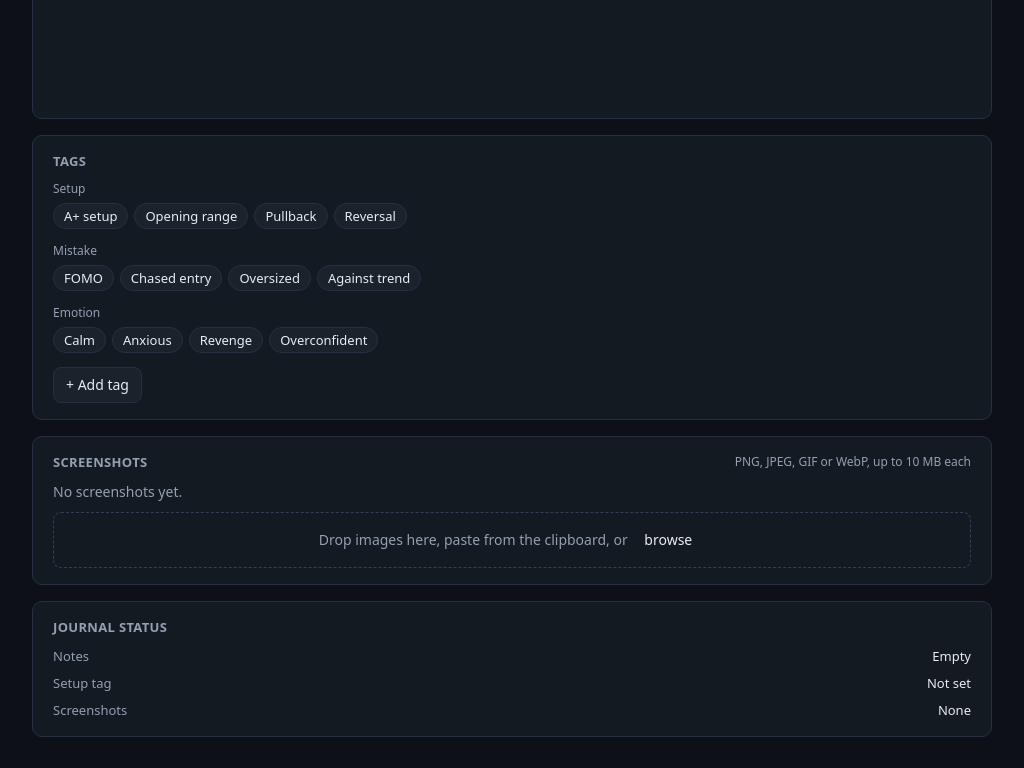
Test: tags › adds a new tag to a group and puts it on the trade
(page scrolled)
Click the button "+ Add tag" at coordinates (98, 385), box [53,367,142,403]
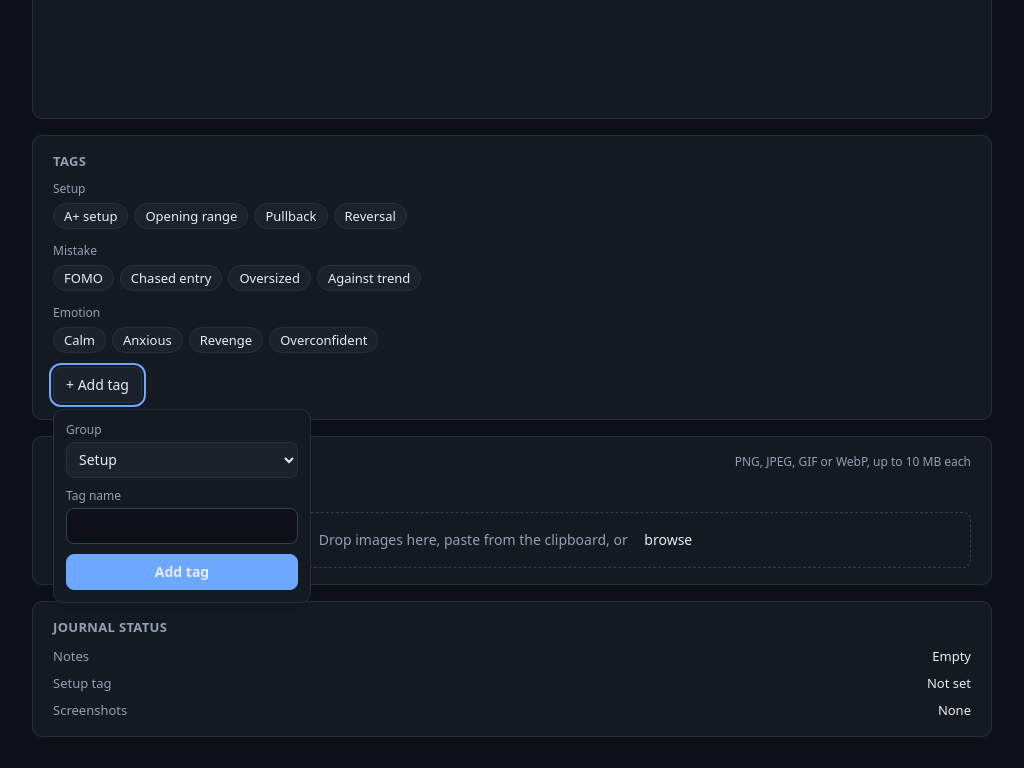
Select "Mistake" in the dropdown labelled "Group" at coordinates (182, 460), box [66,442,298,478]
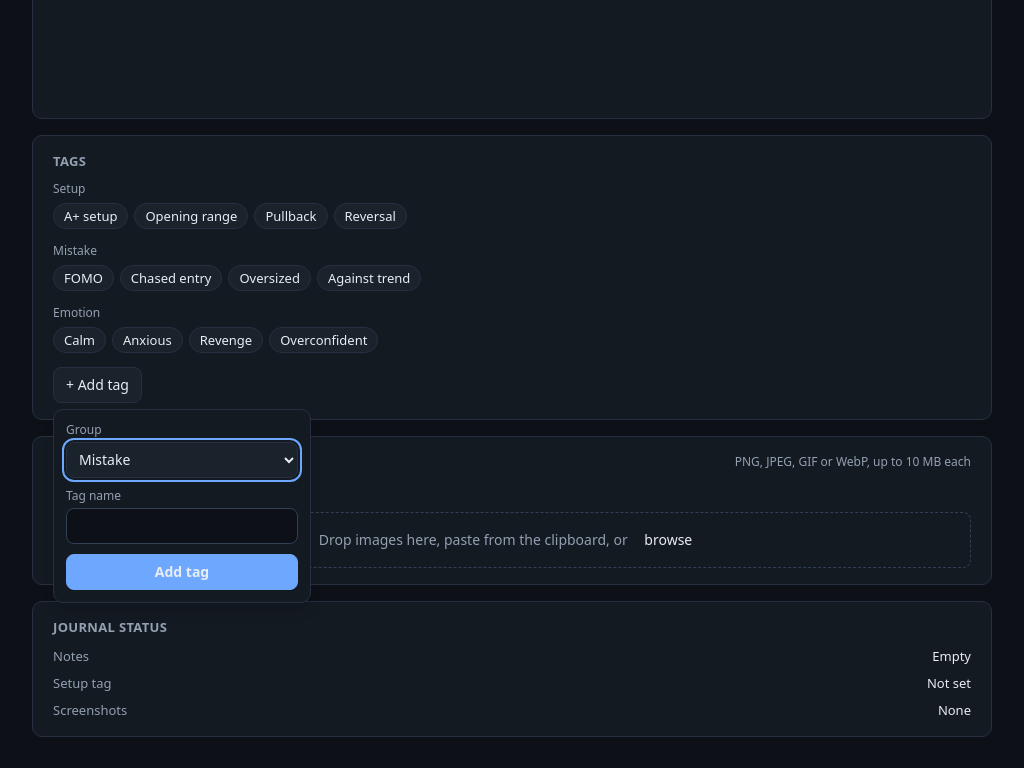
Type "Moved my stop" into the field labelled "Tag name" at coordinates (182, 526), box [66,508,298,544]
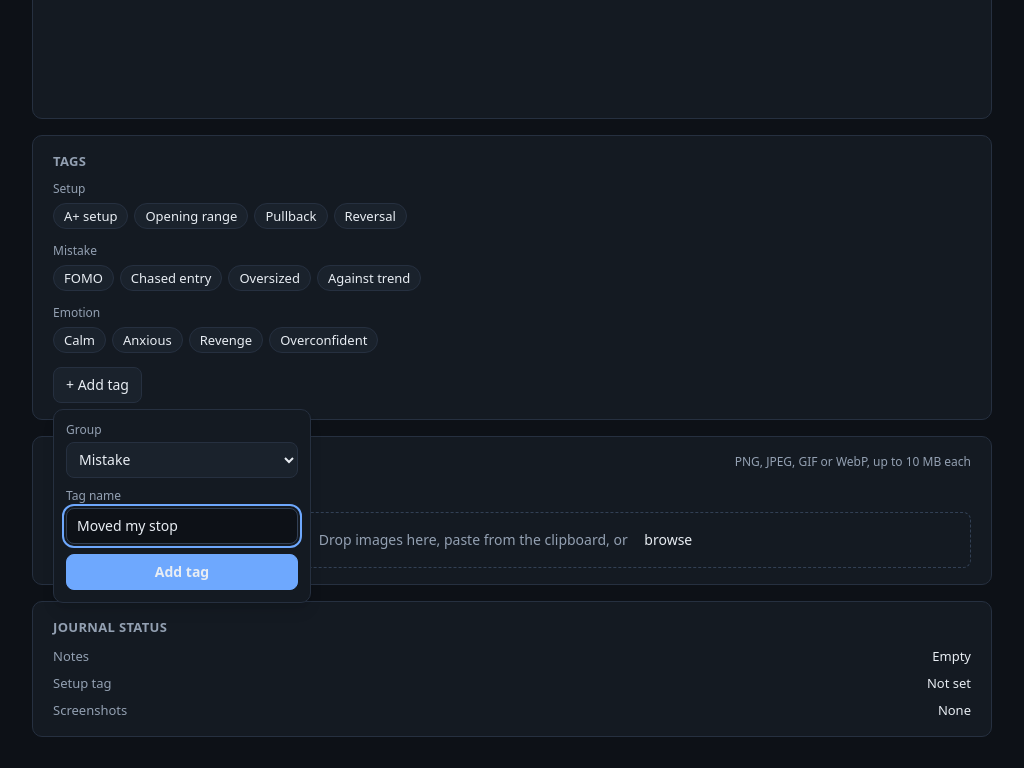
Click the button "Add tag" at coordinates (182, 572), box [66,554,298,590]
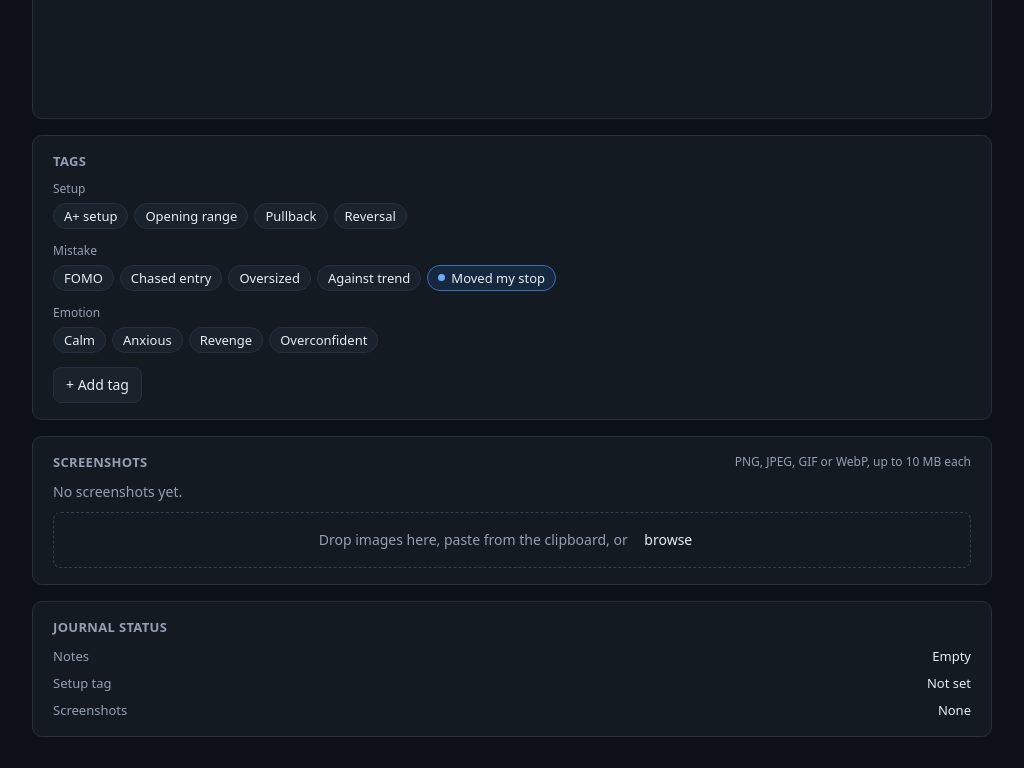
Expected: the label labelled "Tag name" is gone
